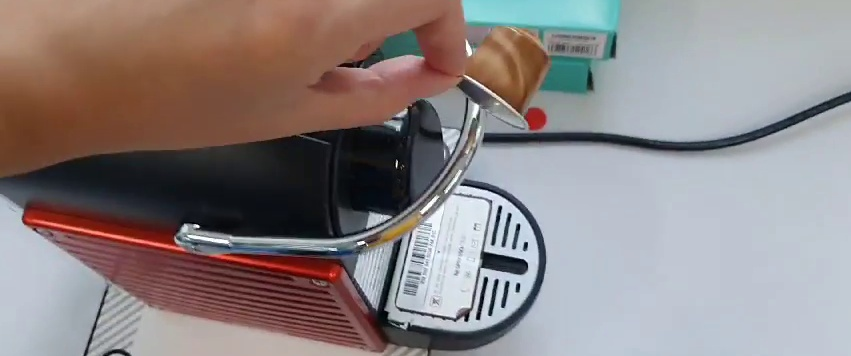capsule_12: (455, 23, 554, 130)
